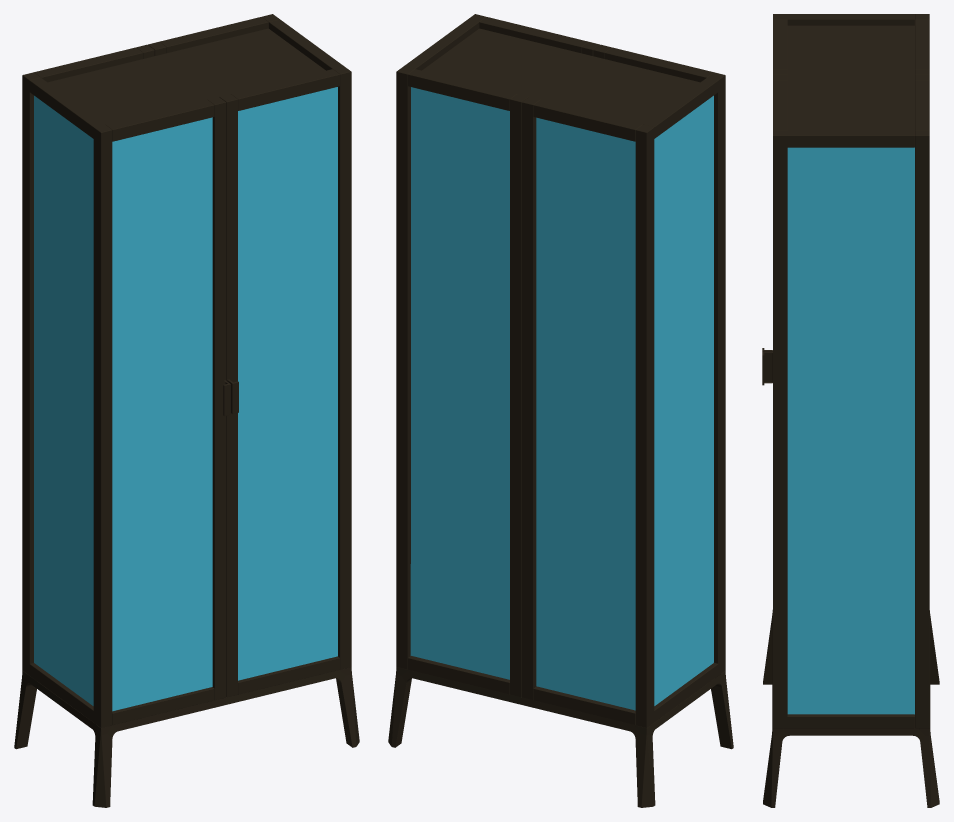
File: CabinetGlass.fbx
3 renders of one model, left to right at view 1: azimuth 30°, elevation 25°; view 2: azimuth 150°, elevation 25°; view 3: azimuth 270°, elevation 25°, orthographic.
Parts seen in each view (by area): view 1: CabinetGlass; view 2: CabinetGlass; view 3: CabinetGlass.
Boxes of the visible parts, x1,y1,x2,y2 form: CabinetGlass: (14,14,359,807); CabinetGlass: (388,14,733,807); CabinetGlass: (762,14,939,807).
Bounding box in the file's own units: 71.88 × 174 × 41.82.
